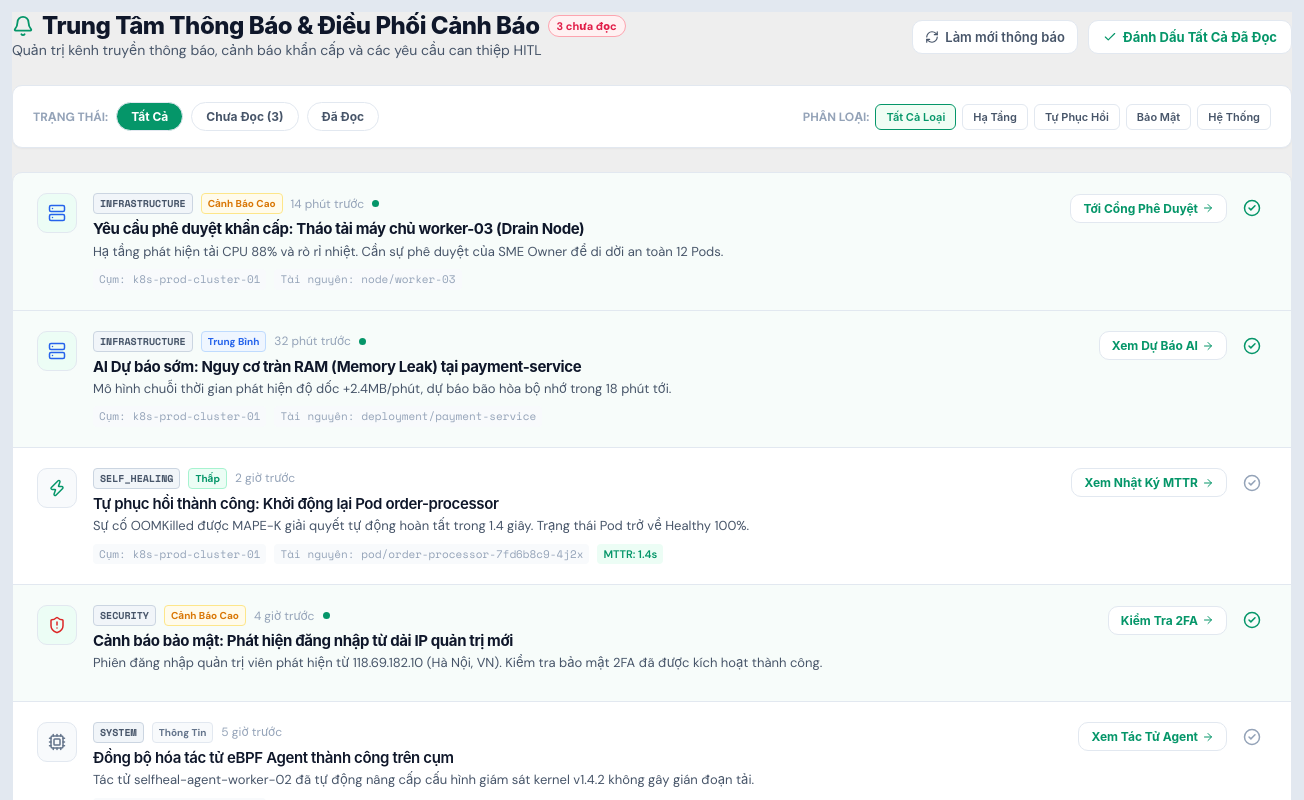
Test case: NotificationsPage Suite (/dashboard/notifications) › marks all notifications as read and updates unread badge to 0
Click the button with test id "btn-mark-all-read".
click(1190, 37)  # box [1088,20,1292,54]
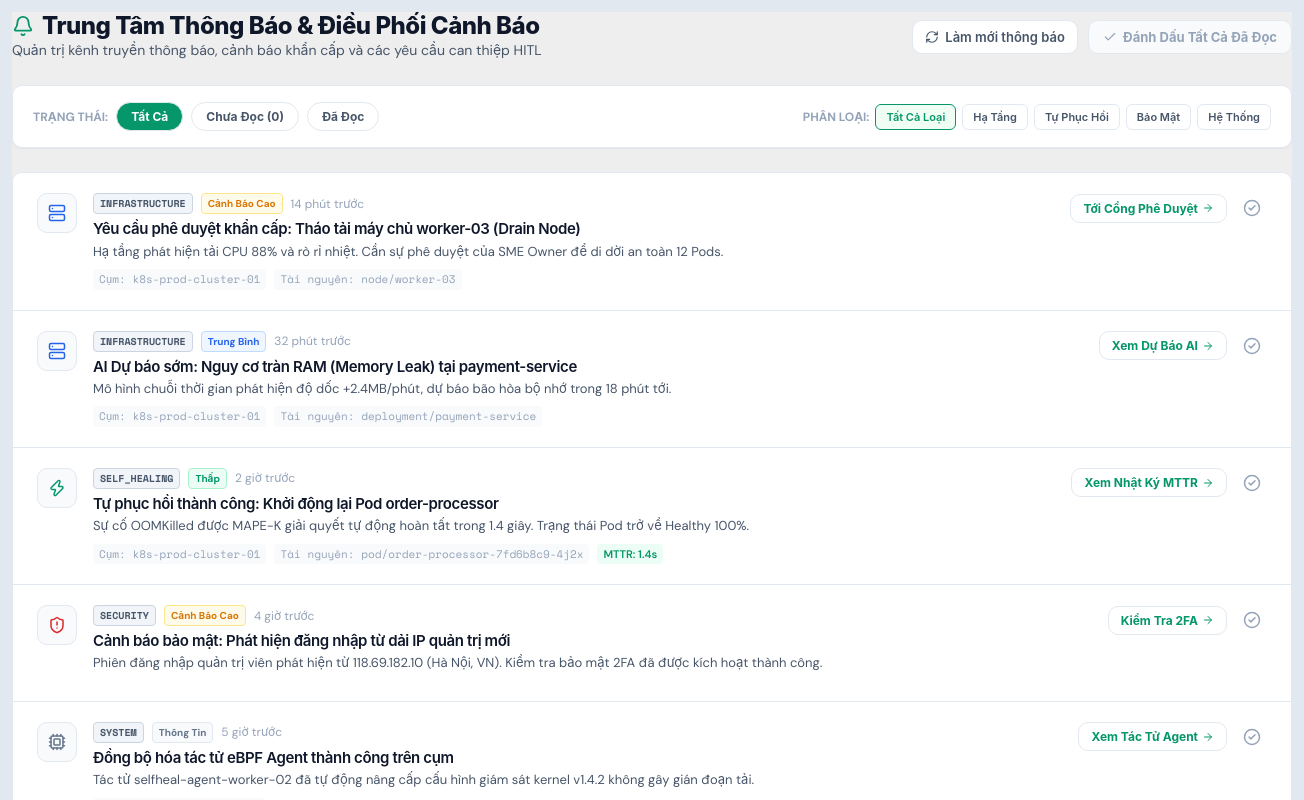
Expected: the text with test id "header-unread-badge" is gone
Expected: the button with test id "btn-mark-all-read" is disabled, [1088,20,1292,54]
